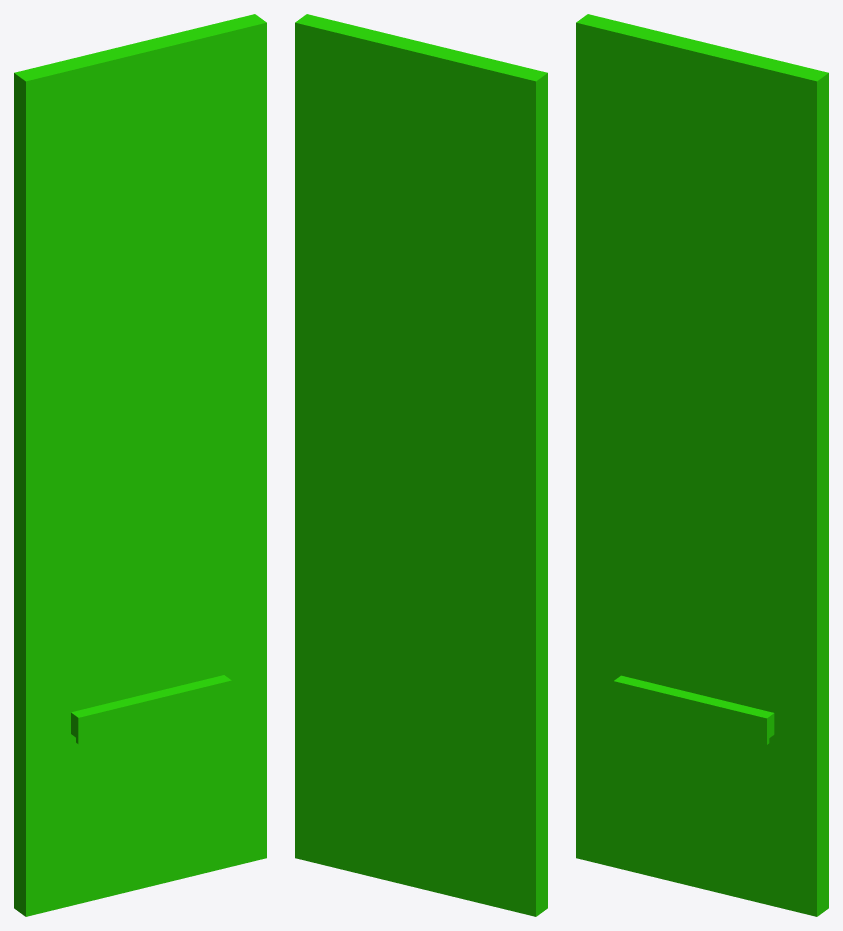
File: Kitchen_Cupboard_14_Door.fbx
3 renders of one model, left to right at view 1: azimuth 30°, elevation 25°; view 2: azimuth 150°, elevation 25°; view 3: azimuth 330°, elevation 25°, orthographic.
Visible parts, largest first — view 1: Kitchen_Cupboard_14_Door; view 2: Kitchen_Cupboard_14_Door; view 3: Kitchen_Cupboard_14_Door.
Part boxes in pixels (x1,y1,x2,y2): Kitchen_Cupboard_14_Door: (14, 14, 266, 916); Kitchen_Cupboard_14_Door: (295, 14, 547, 916); Kitchen_Cupboard_14_Door: (576, 14, 828, 916).
Bounding box in the file's own units: 34.39 × 114 × 4.78.
